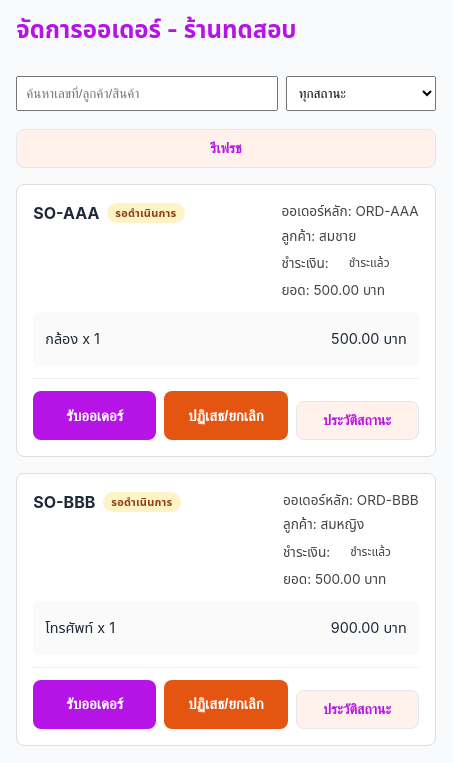
Test: SellerOrders — two-step store workflow › keeps search working across order number / customer / items
Expected: the text "SO-AAA" is shown, x1=33 y1=201 x2=99 y2=225
Type "สมหญิง" into the search field with placeholder "ค้นหาเลขที่/ลูกค้า/สินค้า" at (147, 94), box x1=16 y1=76 x2=278 y2=111
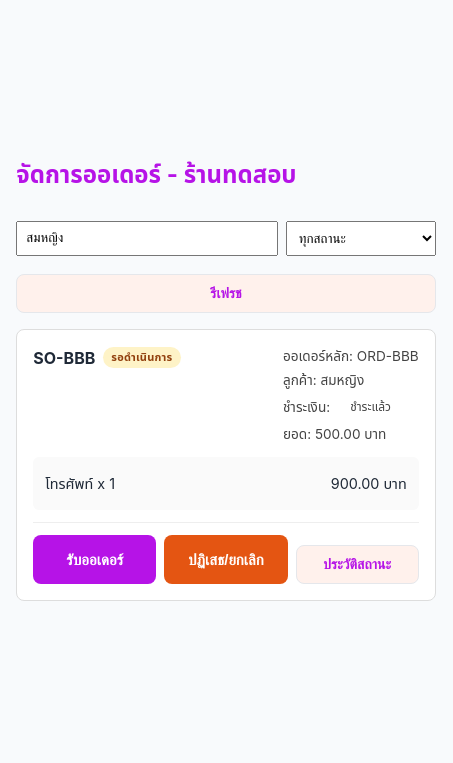
Expected: the text "SO-BBB" is shown, x1=33 y1=346 x2=95 y2=370
Now the text "SO-AAA" is gone
